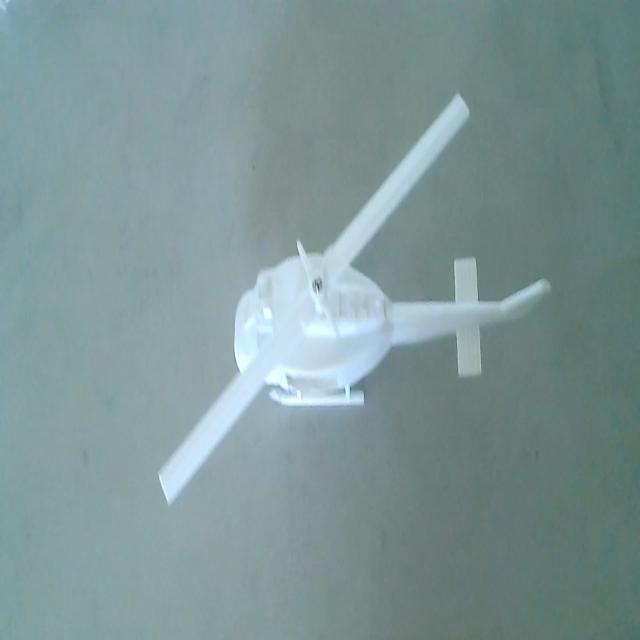Helicopter: (156, 86, 555, 518)
